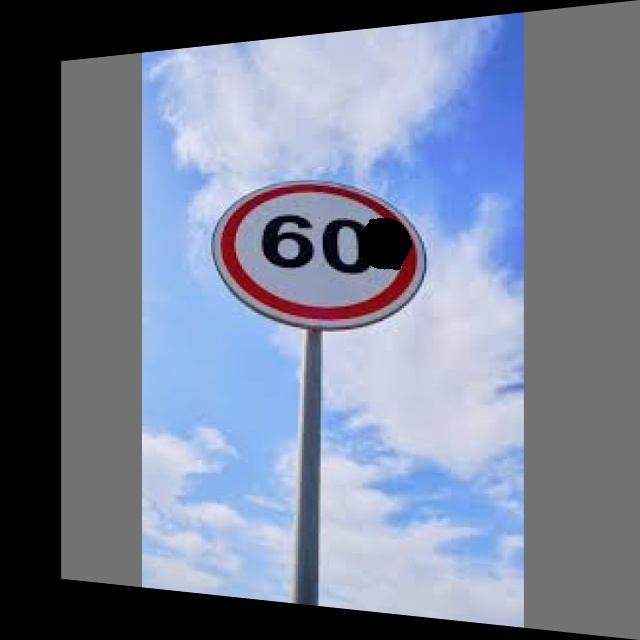Speed_Limit_60: (215, 167, 436, 330)
